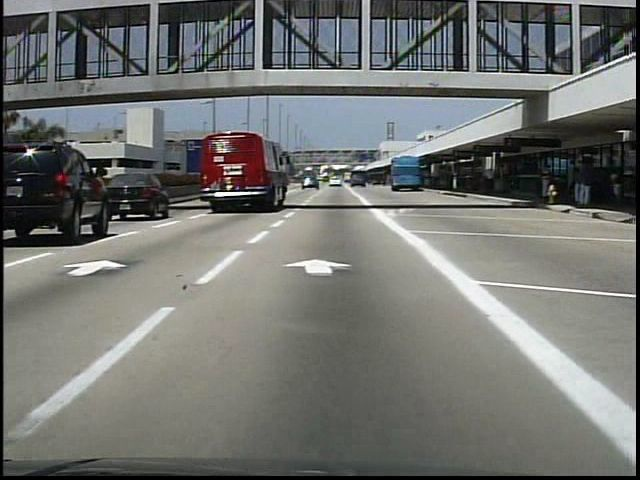person: (605, 167, 623, 210), (484, 165, 496, 192)
